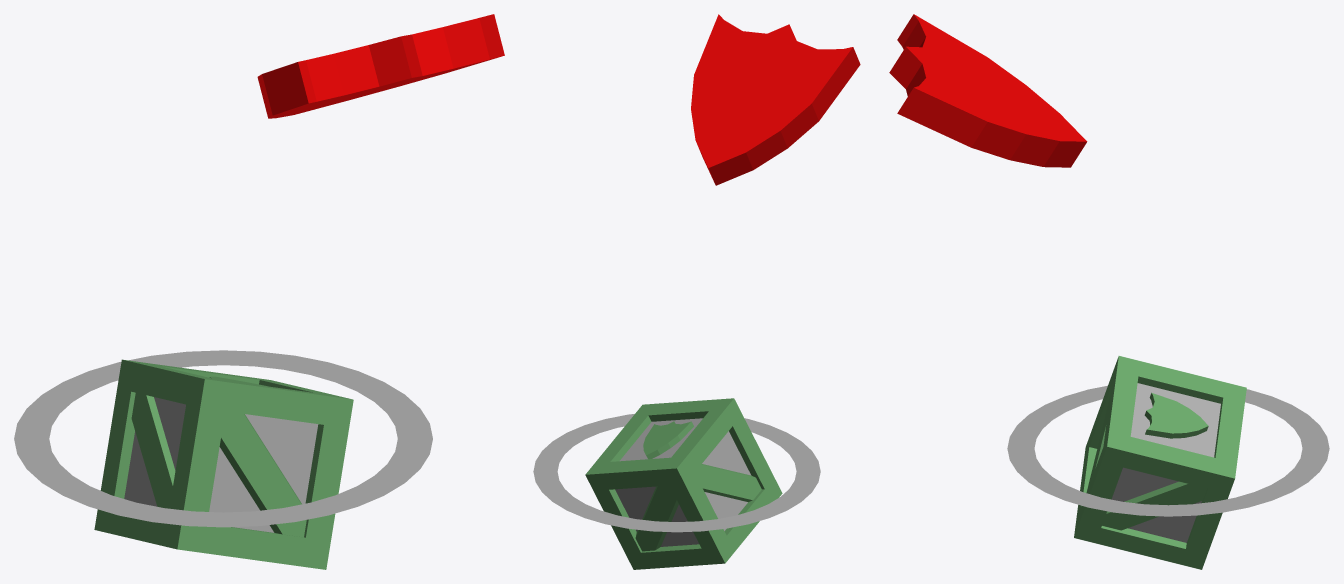
File: mdl_pickUp03.fbx
3 views of the same model, side by side, from view 1: azimuth 30°, elevation 25°; view 2: azimuth 150°, elevation 25°; view 3: azimuth 270°, elevation 25° (orthographic). The views are drawn at different scales.
Parts seen in each view (by area): view 1: mdl_pickUp04; view 2: mdl_pickUp04; view 3: mdl_pickUp04.
Part boxes in pixels (x1,y1,x2,y2): mdl_pickUp04: (14,14,504,569); mdl_pickUp04: (533,14,860,569); mdl_pickUp04: (889,14,1329,569).
Bounding box in the file's own units: 663 × 1158 × 906.
